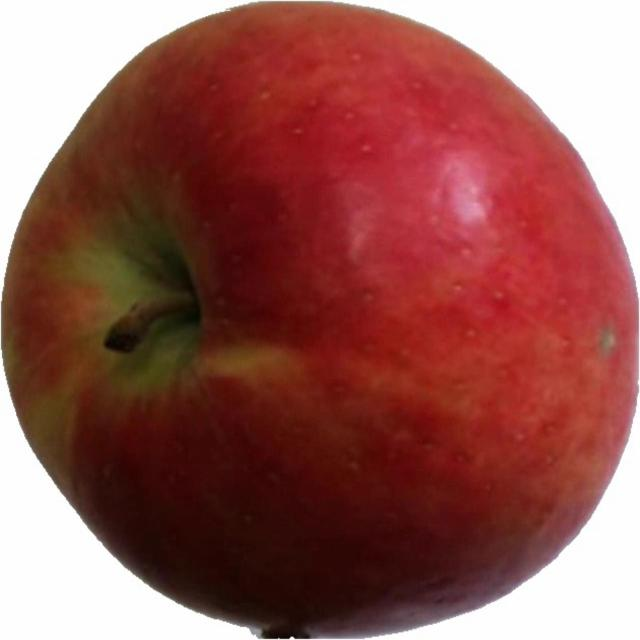apple: (0, 0, 638, 638), (2, 3, 639, 638)
